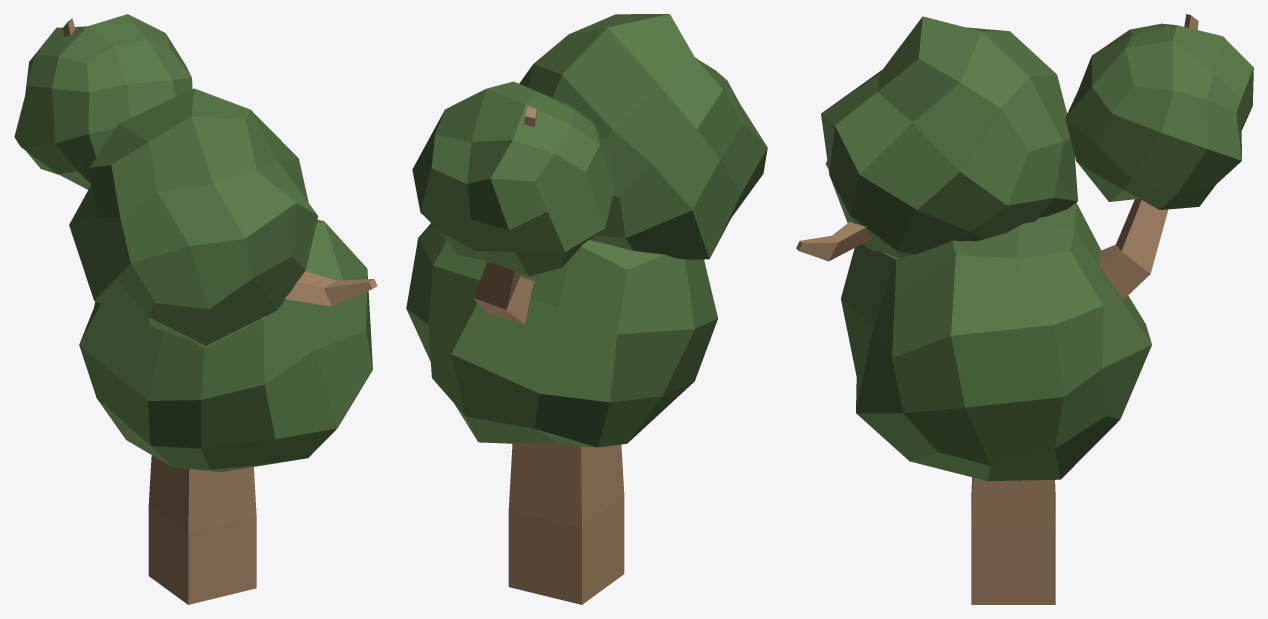
Rendered from Bush 3.fbx.
3 renders of one model, left to right at view 1: azimuth 30°, elevation 25°; view 2: azimuth 150°, elevation 25°; view 3: azimuth 270°, elevation 25°, orthographic. The views are drawn at different scales.
Parts seen in each view (by area): view 1: Cube.004; view 2: Cube.004; view 3: Cube.004.
Boxes of the visible parts, <box> form: Cube.004: <box>14,14,377,604</box>; Cube.004: <box>406,14,767,604</box>; Cube.004: <box>796,14,1253,604</box>.
Size of the model in its own units: 47.9 by 87.4 by 66.22.
